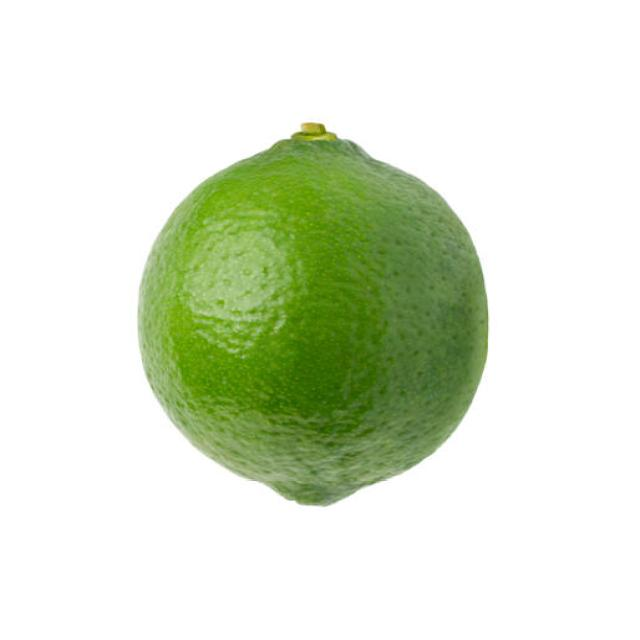Unripe: (137, 119, 492, 506)
